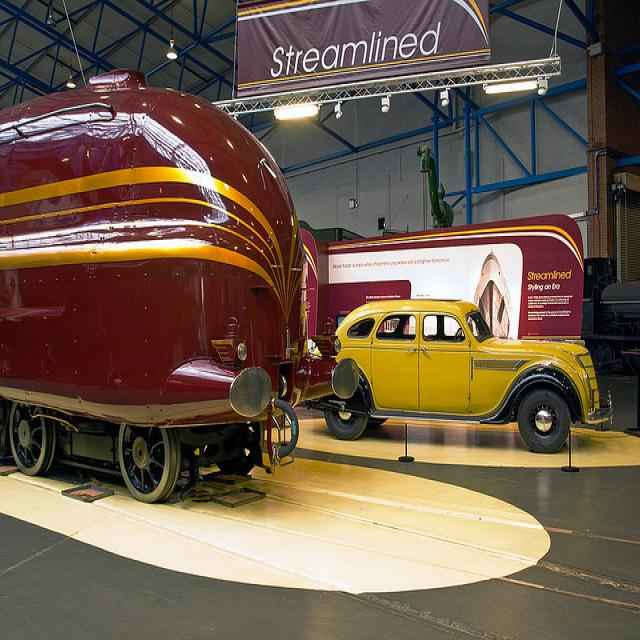Vehicle: (318, 299, 615, 455)
